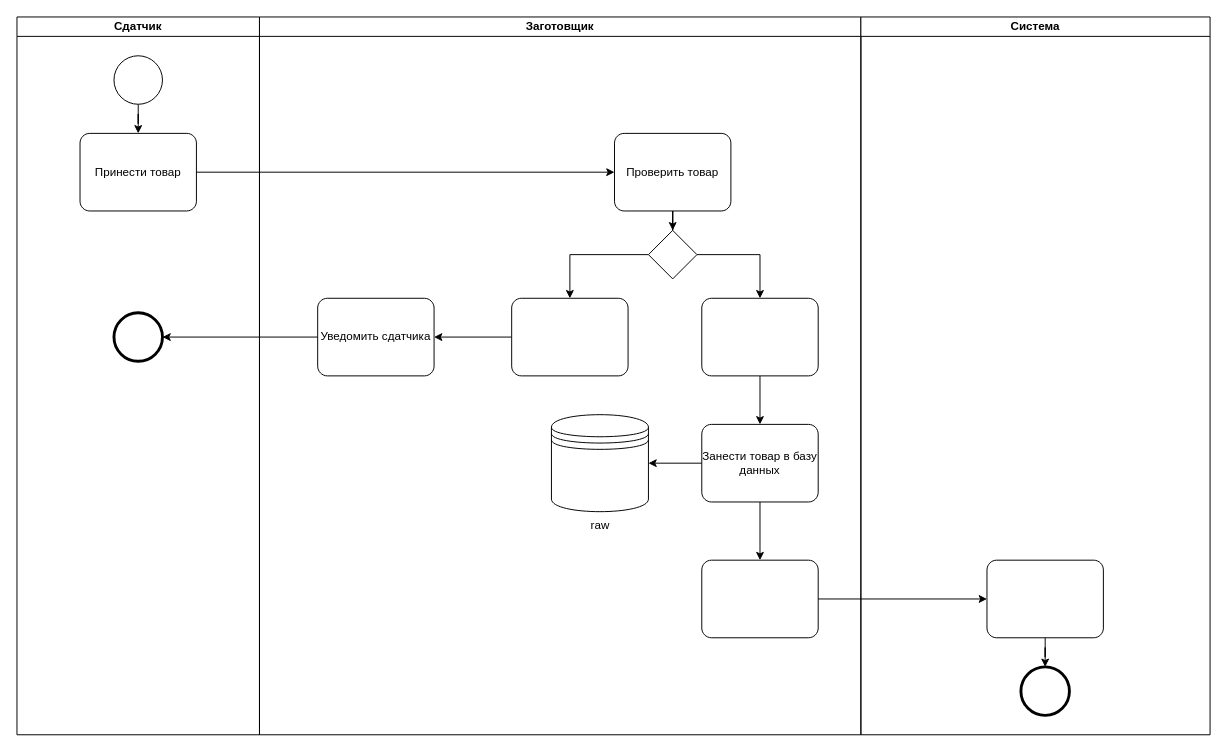
The diagram is 1227 pixels wide and 752 high, and some of its shapes have lost their labels. Here are the shapes that lost their labels. From the top down, the centre of each, then its label:
At [569,336]: "Отклонить товар".
At [759,336]: "Принять товар".
At [759,598]: "Ввести данные для отчета".
At [1044,598]: "Создать отчет".
